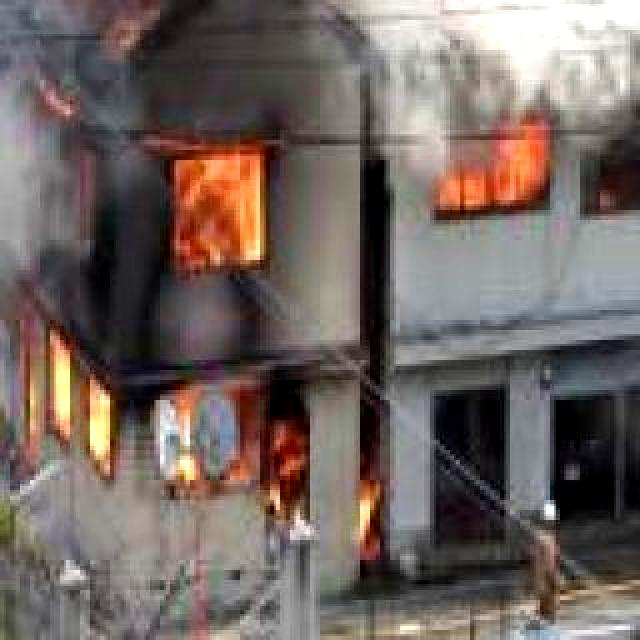fire: (18, 80, 306, 530), (422, 130, 556, 224)
